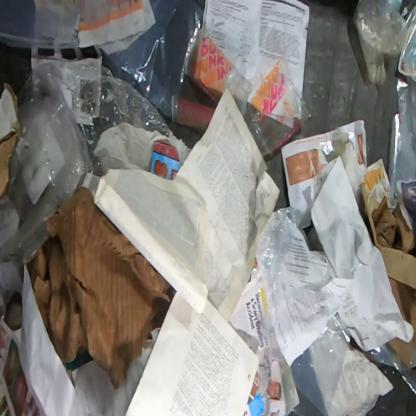cardboard: (28, 187, 176, 390), (371, 194, 415, 368), (0, 83, 19, 198)
rigid_plastic: (245, 49, 313, 159), (185, 27, 253, 118), (172, 95, 215, 132)
soft_plastic: (0, 56, 171, 313), (256, 205, 415, 415), (98, 0, 204, 117), (389, 0, 415, 227), (0, 0, 111, 50), (352, 0, 410, 87)
